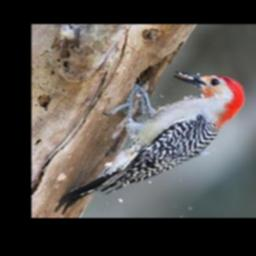Woodpecker: (57, 71, 244, 211)
